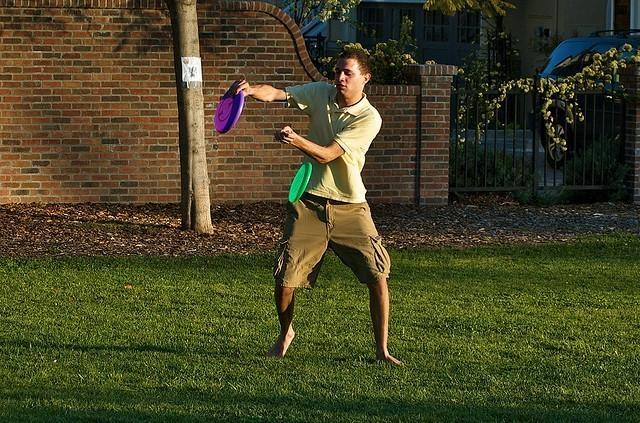car: (540, 30, 640, 166)
